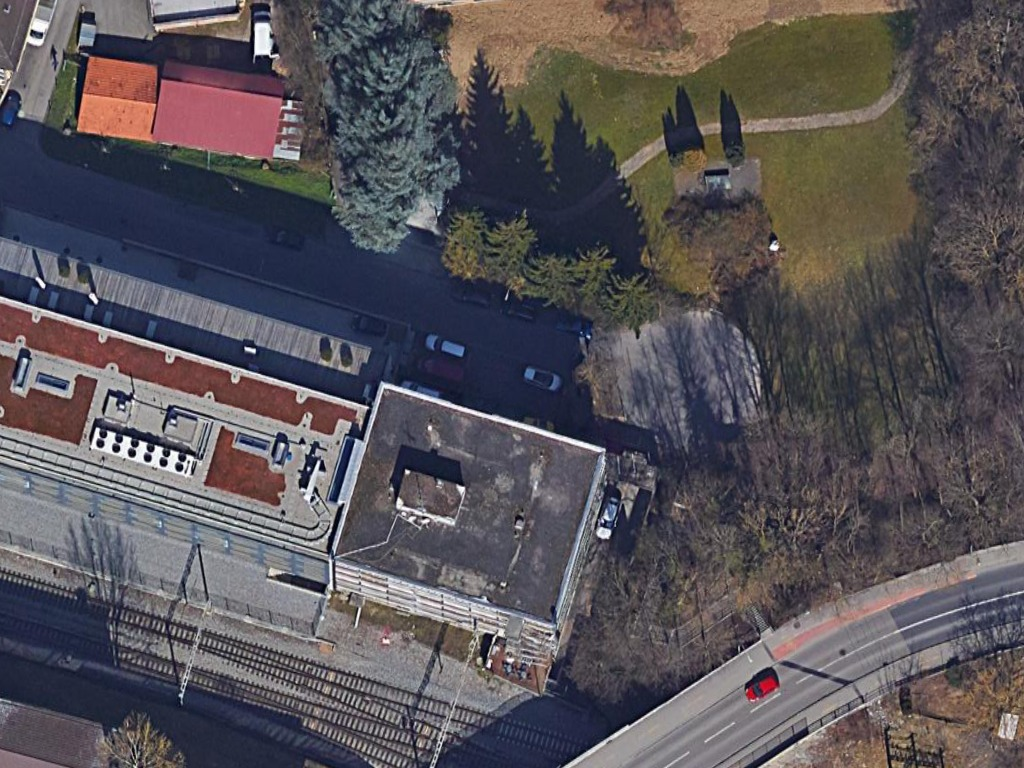car: (415, 328, 472, 362), (589, 492, 623, 544), (520, 363, 564, 395), (739, 674, 781, 706)
